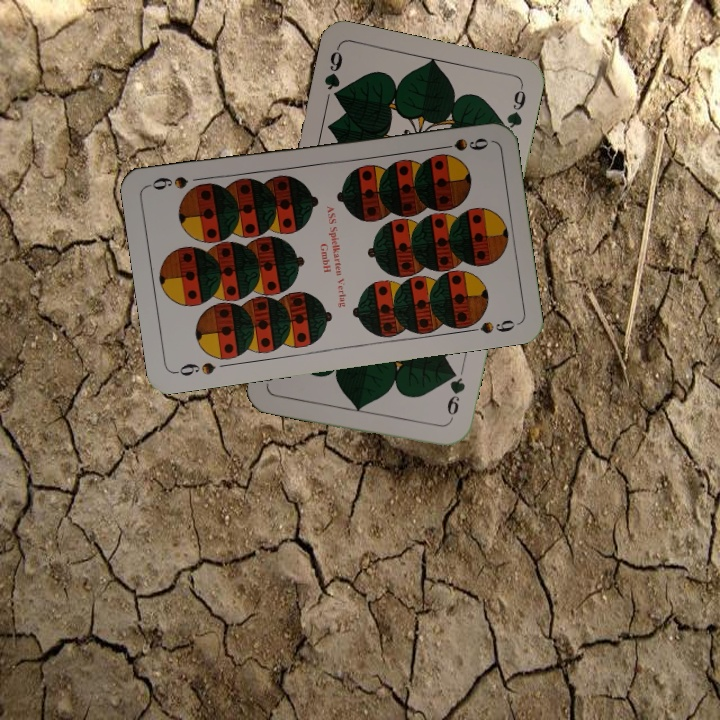G9: (320, 44, 345, 105), (443, 365, 468, 425)
S9: (432, 133, 491, 154), (171, 358, 218, 379)
